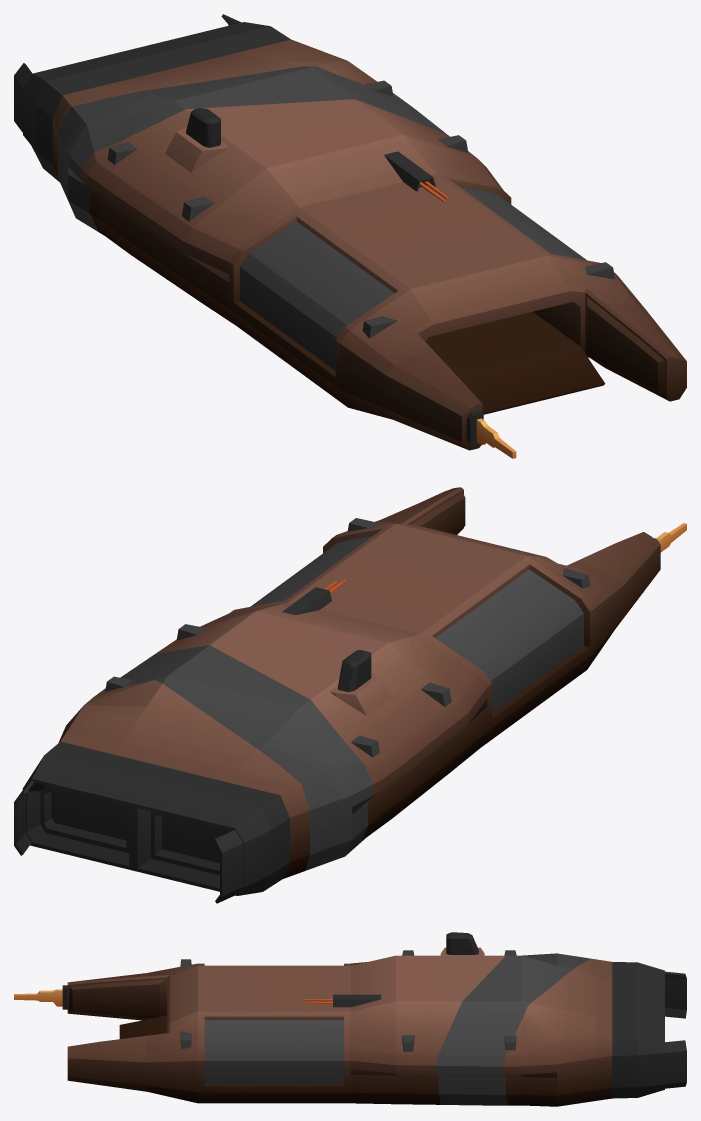
Rendered from carrier.glb.
3 views of the same model, one above another, from view 1: azimuth 30°, elevation 25°; view 2: azimuth 150°, elevation 25°; view 3: azimuth 270°, elevation 25° (orthographic). The views are drawn at different scales.
Visible parts, largest first — view 1: Hull; view 2: Hull; view 3: Hull.
Part boxes in pixels (left/top/right/bottom): Hull: left=14, top=14, right=686, bottom=458; Hull: left=14, top=487, right=686, bottom=903; Hull: left=14, top=932, right=686, bottom=1106.
Size of what is drawn, in the model's own units: 36.21 by 15.88 by 99.03.
Materials: 1 (1 with a texture image).
